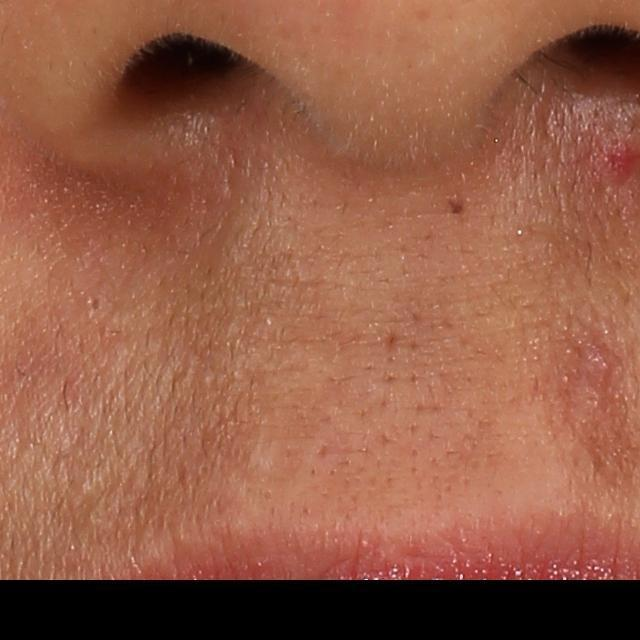comedo: (87, 292, 106, 317)
nevus: (444, 195, 468, 219)
papule: (597, 138, 639, 178)
